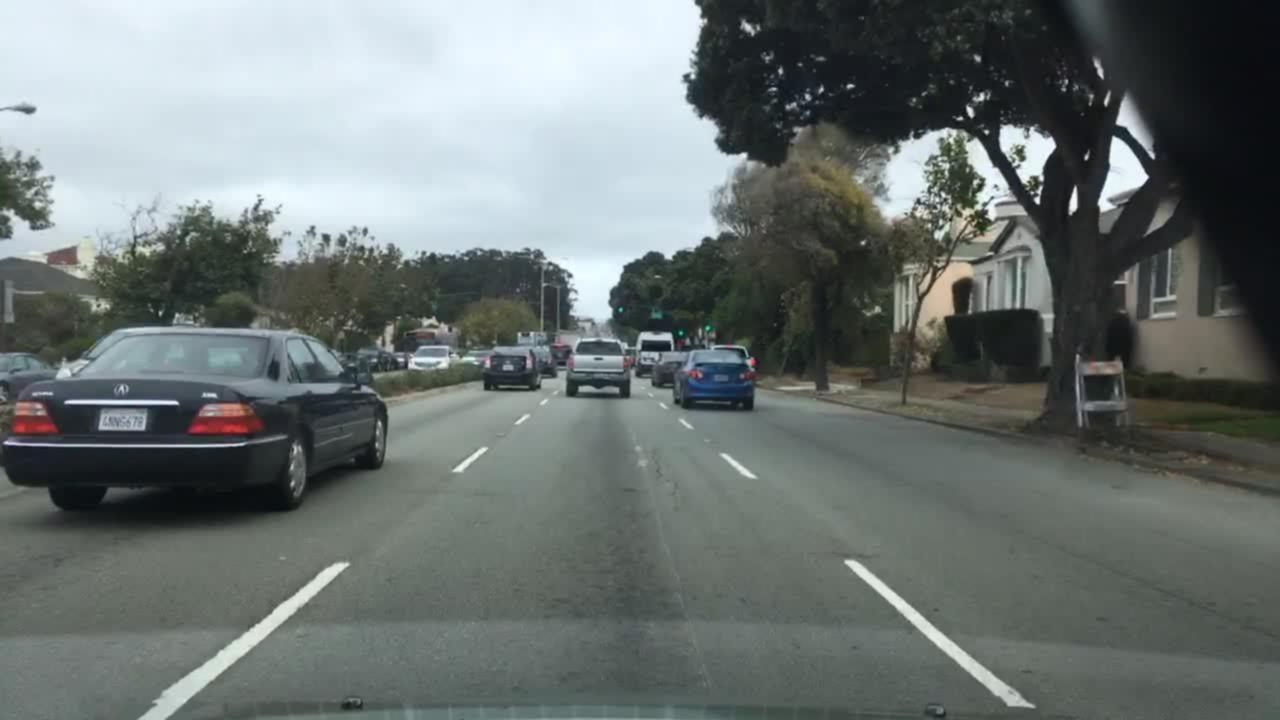acura: (109, 377, 135, 403)
